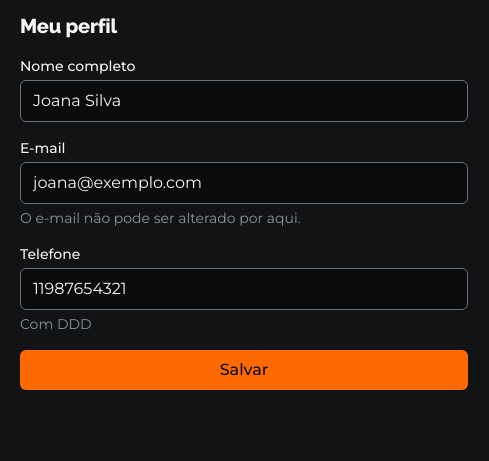
Scenario: Perfil › reduz o telefone a dígitos antes de salvar
The image size is (489, 461).
Replace the text in the field labelled "Telefone" with "(21) 91234-5678" at x=244, y=289, box [20,268,468,310]
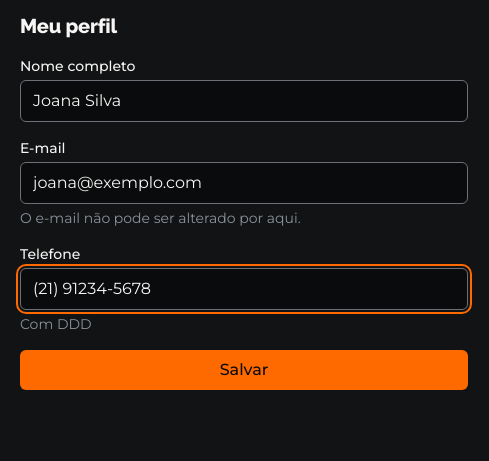
Click the button "Salvar" at x=244, y=370, box [20,350,468,390]
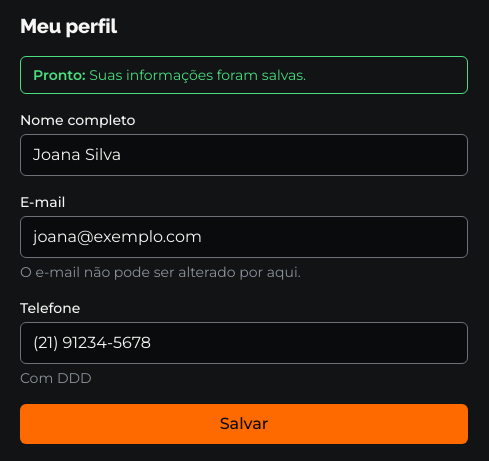
expect the message "Pronto: Suas informações foram salvas." is shown: met, box [20,56,468,94]
